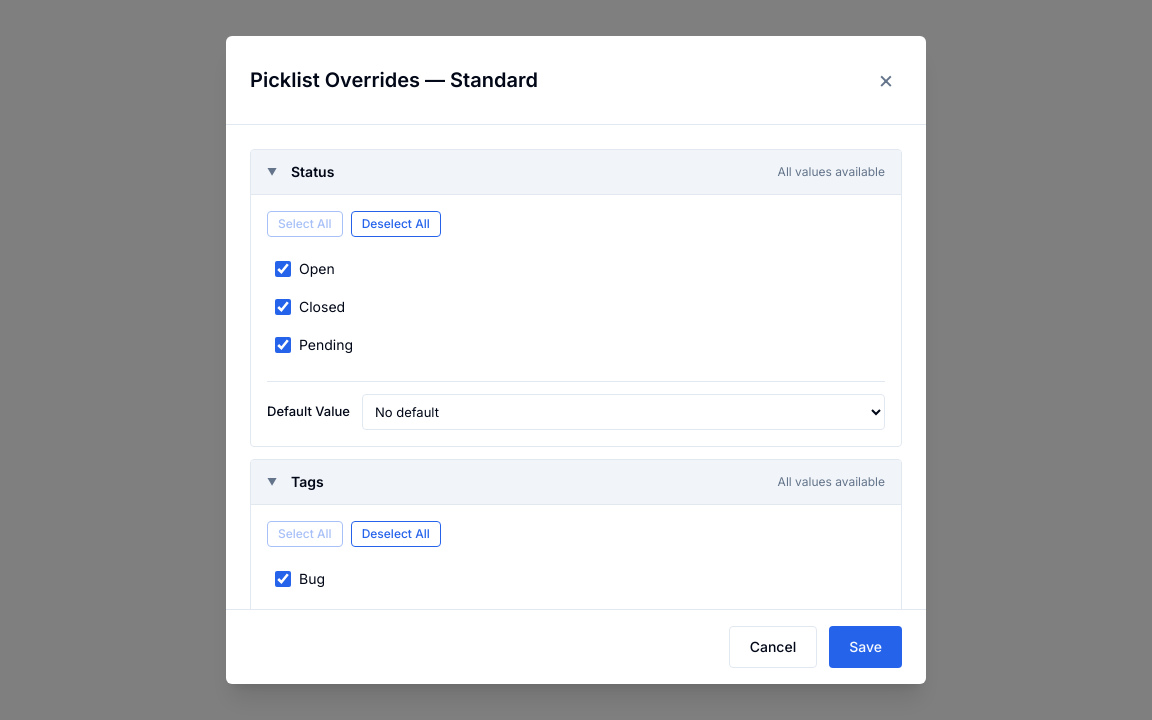
Test: RecordTypePicklistEditor › Collapsible Sections › should toggle field section collapse on header click
Note: Click to collapse
What coordinates should you click on to do the following:
click the button with test id "field-header-field-pl-1"
I would click on:
 (313, 172)
Its box is [251, 150, 901, 194].
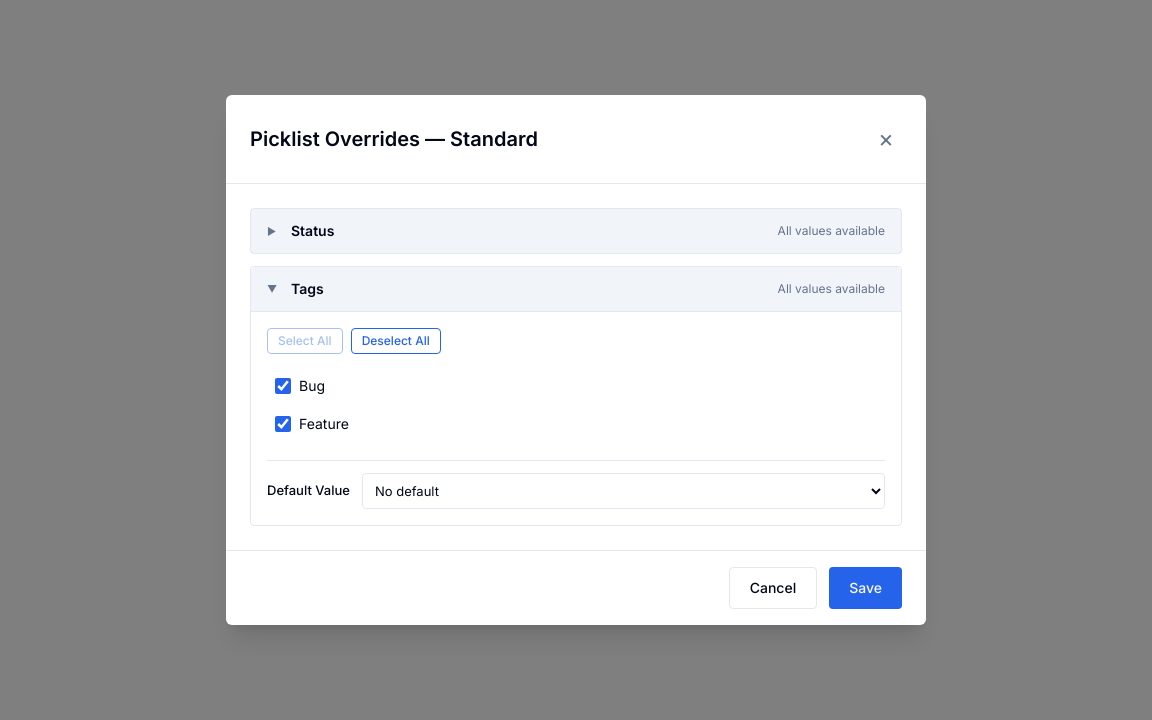
expect the button with test id "field-header-field-pl-1" is collapsed: met
Note: Click to expand again
What coordinates should you click on to do the following:
click the button with test id "field-header-field-pl-1"
I would click on:
 (313, 230)
Its box is [251, 209, 901, 253].
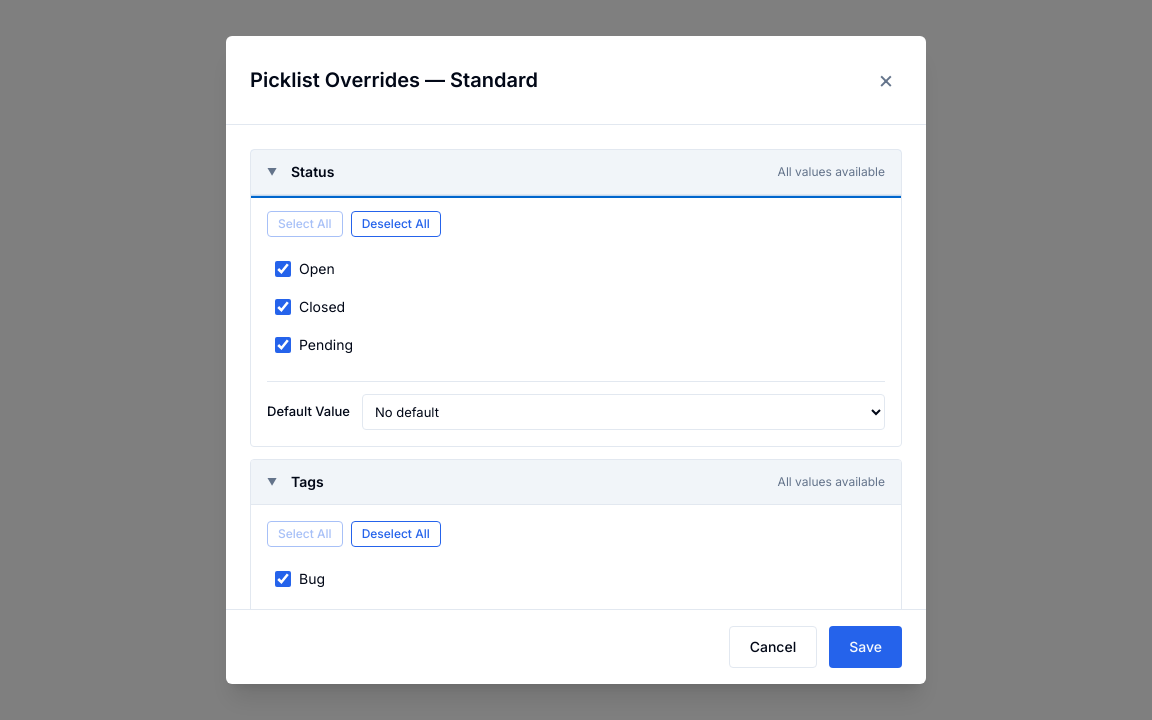
expect the button with test id "field-header-field-pl-1" is expanded: met, box [251, 150, 901, 194]
